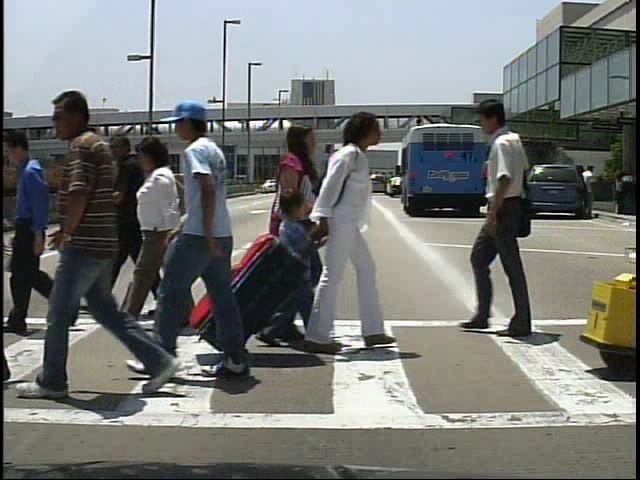person: (17, 84, 196, 406), (445, 103, 570, 348), (164, 105, 272, 388), (308, 105, 391, 356), (264, 118, 334, 360), (9, 122, 75, 341), (97, 130, 168, 322), (126, 135, 191, 329), (260, 186, 314, 348), (582, 165, 602, 218), (498, 166, 516, 219), (506, 165, 525, 215)
